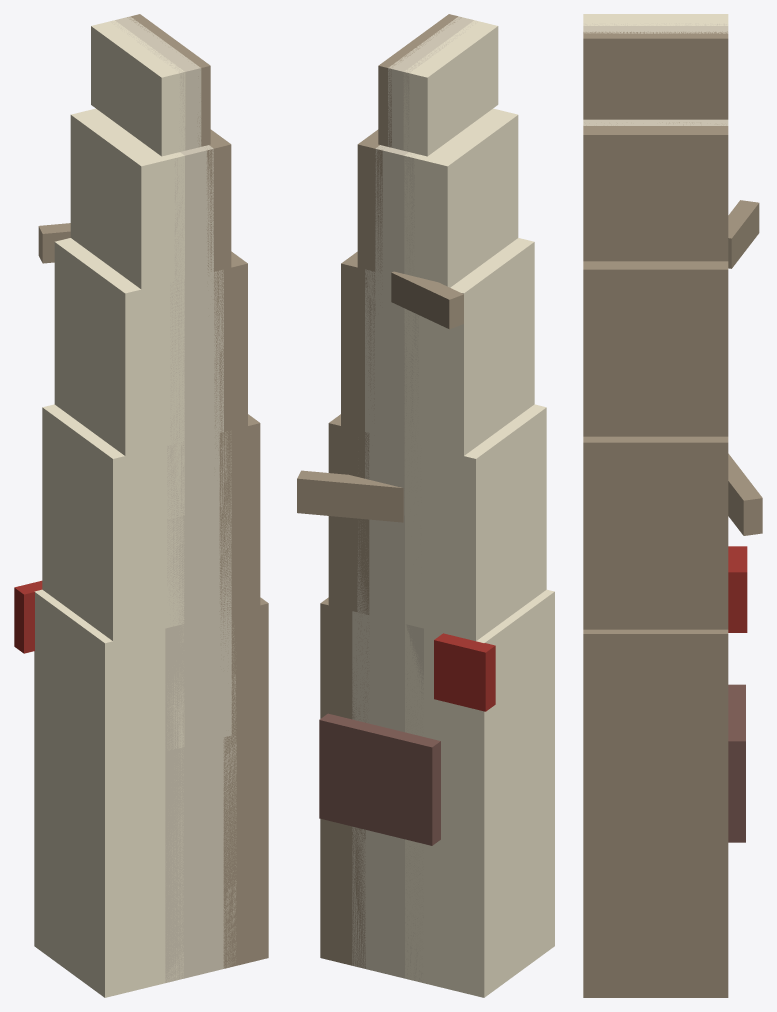
The model's file is materials_voxel_bone_shard_sample.glb.
3 renders of one model, left to right at view 1: azimuth 30°, elevation 25°; view 2: azimuth 150°, elevation 25°; view 3: azimuth 270°, elevation 25°, orthographic. The views are drawn at different scales.
Visible parts, largest first — view 1: bone_base_light, bone_lower_light, bone_mid_light, bone_base_mid, bone_upper_light, bone_base_shadow, bone_lower_mid, bone_mid_mid, bone_tip_light, bone_lower_shadow, bone_mid_shadow, bone_upper_mid (+5 smaller); view 2: bone_base_light, bone_lower_light, bone_mid_light, bone_upper_light, bone_base_mid, marrow_hollow, bone_base_shadow, bone_tip_light, bone_mid_mid, bone_lower_shadow, bone_lower_mid, bone_mid_shadow (+7 smaller); view 3: bone_base_shadow, bone_lower_shadow, bone_mid_shadow, bone_upper_shadow, bone_tip_shadow, marrow_hollow, diagonal_crack_low, bone_tip_light, old_blood_stain, diagonal_crack_high, bone_tip_mid, bone_upper_mid.
Part boxes in pixels (left/top/right/bottom): bone_base_light: left=34, top=589, right=183, bottom=997; bone_lower_light: left=42, top=404, right=184, bottom=764; bone_mid_light: left=54, top=238, right=184, bottom=529; bone_base_mid: left=165, top=616, right=236, bottom=982; bone_upper_light: left=70, top=108, right=184, bottom=333; bone_base_shadow: left=223, top=597, right=268, bottom=968; bone_lower_mid: left=167, top=431, right=231, bottom=745; bone_mid_mid: left=170, top=270, right=223, bottom=517; bone_tip_light: left=91, top=20, right=185, bottom=156; bone_lower_shadow: left=219, top=414, right=260, bottom=734; bone_mid_shadow: left=214, top=251, right=247, bottom=502; bone_upper_mid: left=174, top=145, right=213, bottom=324; bone_base_light: left=405, top=589, right=554, bottom=997; bone_lower_light: left=405, top=404, right=546, bottom=764; bone_mid_light: left=404, top=238, right=534, bottom=528; bone_upper_light: left=404, top=108, right=518, bottom=333; bone_base_mid: left=352, top=611, right=423, bottom=980; marrow_hollow: left=319, top=713, right=440, bottom=845; bone_base_shadow: left=320, top=597, right=365, bottom=968; bone_tip_light: left=403, top=20, right=498, bottom=156; bone_mid_mid: left=365, top=269, right=418, bottom=515; bone_lower_shadow: left=328, top=414, right=369, bottom=719; bone_lower_mid: left=357, top=437, right=421, bottom=730; bone_mid_shadow: left=341, top=251, right=374, bottom=475; bone_base_shadow: left=583, top=629, right=728, bottom=997; bone_lower_shadow: left=583, top=436, right=728, bottom=629; bone_mid_shadow: left=583, top=261, right=728, bottom=436; bone_upper_shadow: left=583, top=122, right=728, bottom=261; bone_tip_shadow: left=583, top=31, right=728, bottom=119; marrow_hollow: left=728, top=684, right=745, bottom=842; diagonal_crack_low: left=728, top=453, right=762, bottom=535; bone_tip_light: left=583, top=14, right=728, bottom=25; old_blood_stain: left=728, top=546, right=747, bottom=632; diagonal_crack_high: left=728, top=200, right=759, bottom=268; bone_tip_mid: left=583, top=23, right=728, bottom=33; bone_upper_mid: left=583, top=119, right=728, bottom=125.
Bounding box in the file's own units: 0.1978 × 0.92 × 0.161.
